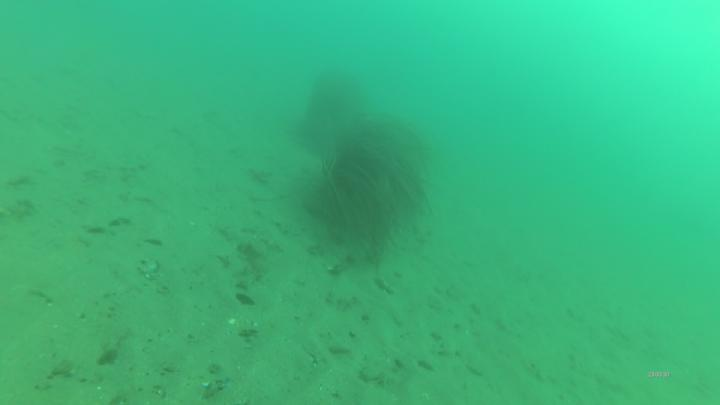waterweeds: (325, 118, 433, 259)
